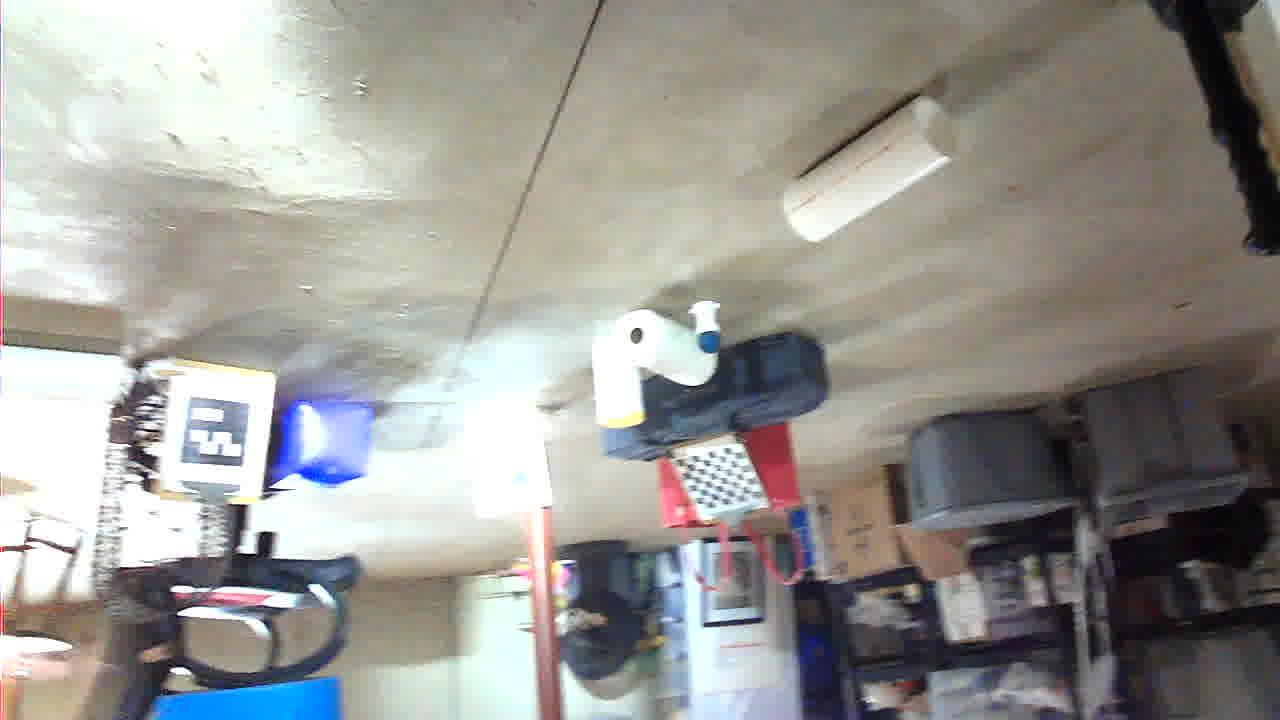coral: (325, 475, 493, 625), (1159, 318, 1280, 376)
